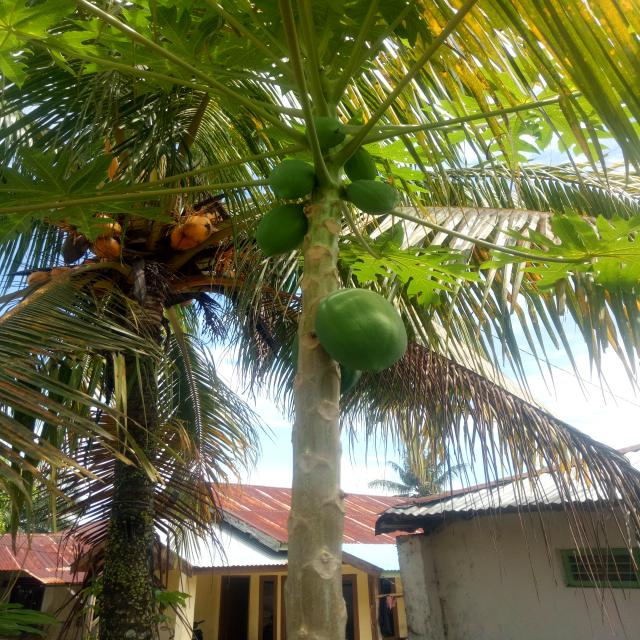Pepaya unrippen: (313, 288, 422, 374), (238, 203, 302, 249), (269, 162, 327, 205), (346, 179, 404, 213)
